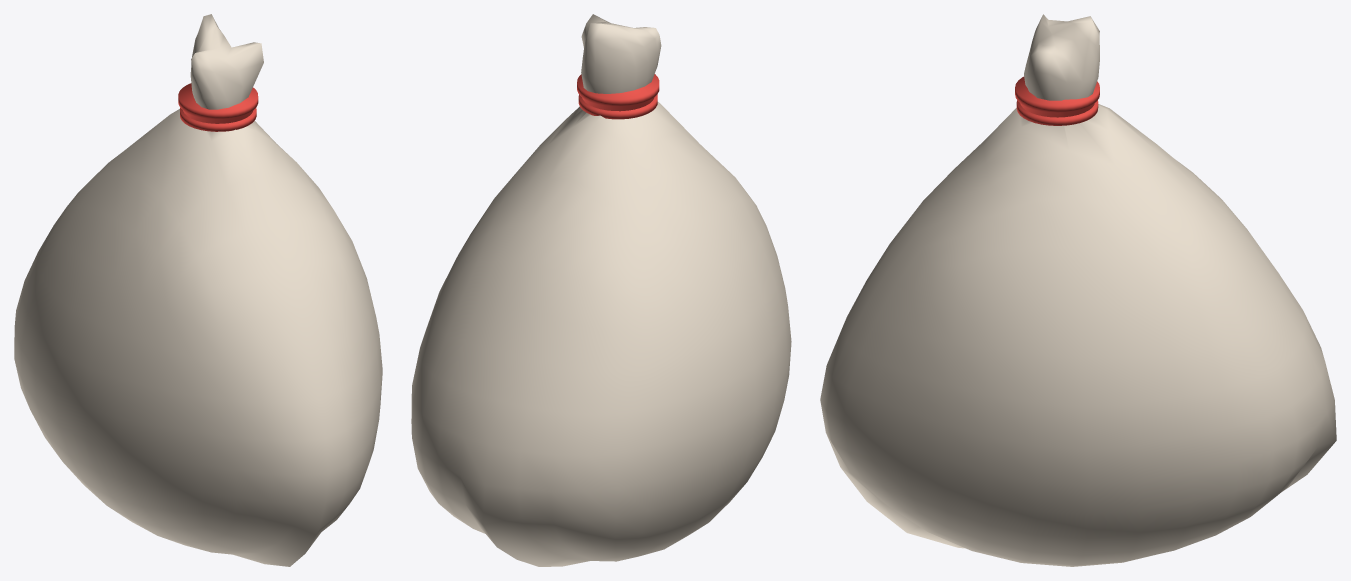
File: procreation_too.fbx
The picture shows the model from 3 angles, left to right: view 1: azimuth 30°, elevation 25°; view 2: azimuth 150°, elevation 25°; view 3: azimuth 270°, elevation 25°; orthographic projection. The views are drawn at different scales.
Visible parts, largest first — view 1: Cube; view 2: Cube; view 3: Cube.
Boxes of the visible parts, x1,y1,x2,y2 form: Cube: (14,14,382,566); Cube: (411,14,791,566); Cube: (820,14,1336,566).
Size of the model in its own units: 182 by 304 by 263.
